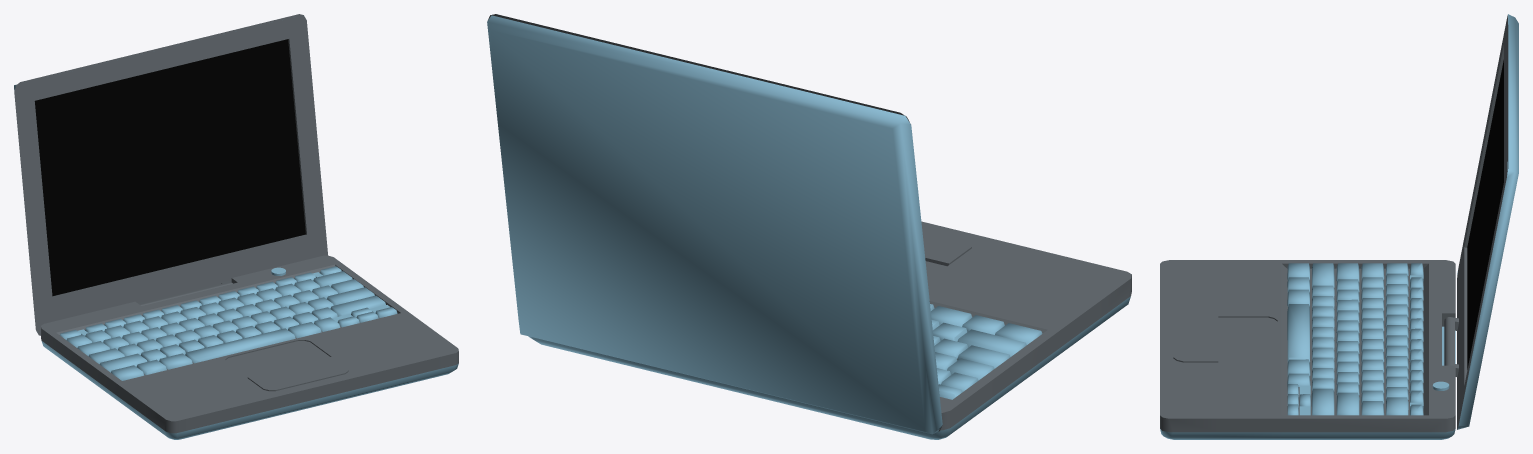
File: laptop.fbx
3 views of the same model, side by side, from view 1: azimuth 30°, elevation 25°; view 2: azimuth 150°, elevation 25°; view 3: azimuth 270°, elevation 25° (orthographic). The views are drawn at different scales.
Parts seen in each view (by area): view 1: iBook_lid_iBook_lid_LCD, iBook_bottom_iBook_bottom_Aluminum, iBook_lid_iBook_lid_Aluminum, iBook_keyboard_iBook_keyboard_White_plastic, iBook_bottom_iBook_bottom_White_plastic; view 2: iBook_lid_iBook_lid_White_plastic, iBook_bottom_iBook_bottom_Aluminum, iBook_keyboard_iBook_keyboard_White_plastic, iBook_bottom_iBook_bottom_White_plastic, iBook_lid_iBook_lid_Aluminum; view 3: iBook_bottom_iBook_bottom_Aluminum, iBook_keyboard_iBook_keyboard_White_plastic, iBook_lid_iBook_lid_White_plastic, iBook_lid_iBook_lid_LCD, iBook_lid_iBook_lid_Aluminum, iBook_bottom_iBook_bottom_White_plastic.
Part boxes in pixels (x1,y1,x2,y2): iBook_lid_iBook_lid_LCD: (34,39,305,296); iBook_bottom_iBook_bottom_Aluminum: (41,255,458,433); iBook_lid_iBook_lid_Aluminum: (14,14,327,335); iBook_keyboard_iBook_keyboard_White_plastic: (60,266,397,380); iBook_bottom_iBook_bottom_White_plastic: (41,341,458,439); iBook_lid_iBook_lid_White_plastic: (487,15,942,434); iBook_bottom_iBook_bottom_Aluminum: (921,221,1131,430); iBook_keyboard_iBook_keyboard_White_plastic: (930,304,1042,399); iBook_bottom_iBook_bottom_White_plastic: (528,296,1130,439); iBook_lid_iBook_lid_Aluminum: (488,14,942,431); iBook_bottom_iBook_bottom_Aluminum: (1160,260,1455,432); iBook_keyboard_iBook_keyboard_White_plastic: (1287,263,1423,415); iBook_lid_iBook_lid_White_plastic: (1457,14,1518,429); iBook_lid_iBook_lid_LCD: (1467,60,1503,369); iBook_lid_iBook_lid_Aluminum: (1444,15,1508,429); iBook_bottom_iBook_bottom_White_plastic: (1160,326,1455,439).
Size of the model in its own units: 59.34 by 47.68 by 56.68.
